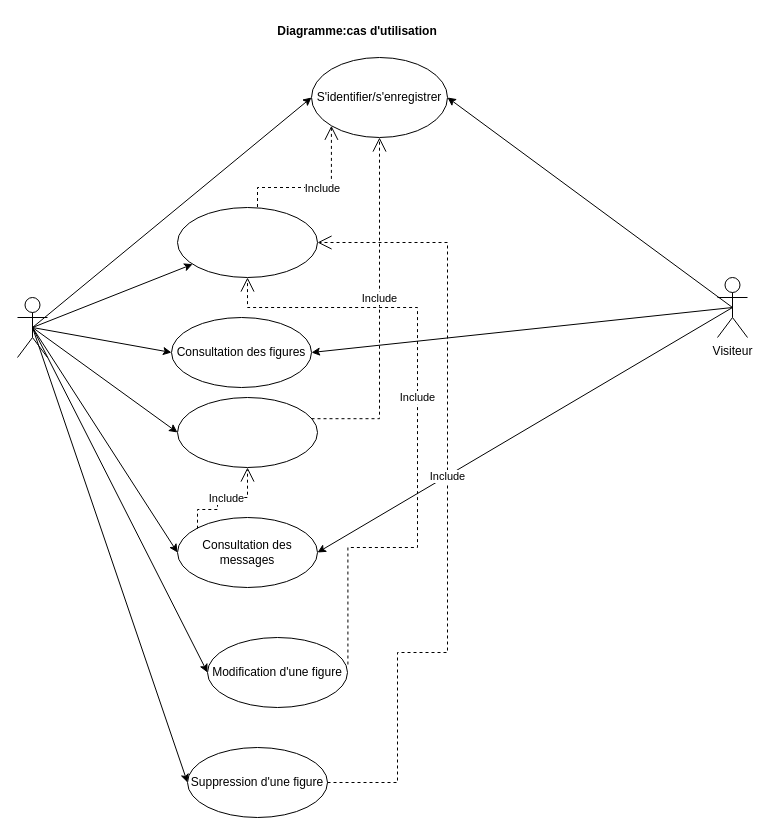
Image size: 770x835. Some labels were removed from this diagram. The shapes that lost their labels are listed below. From the top down, each one's centre as x and y in pixels, then its label:
(247,242): Création d'une figure
(32,327): User
(247,432): Création d'un message
